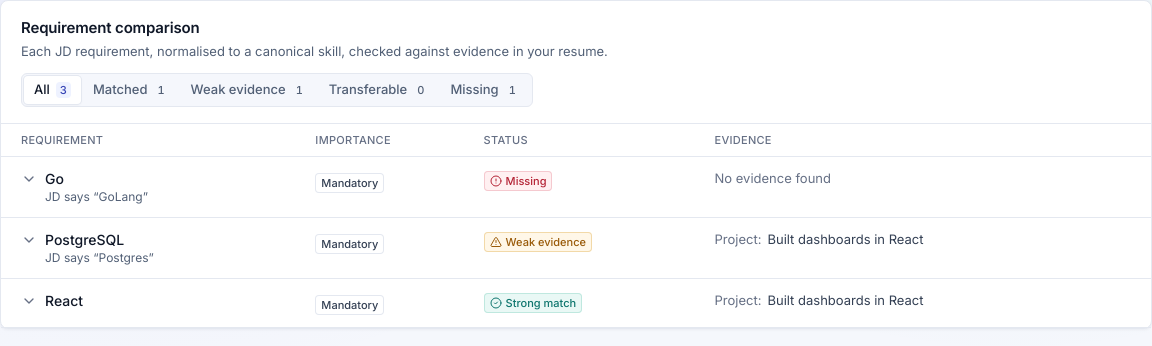
Test: RequirementsPanel › filters by match state
Click the tab "Missing 1" at (485, 90), box [440,76,530,104]
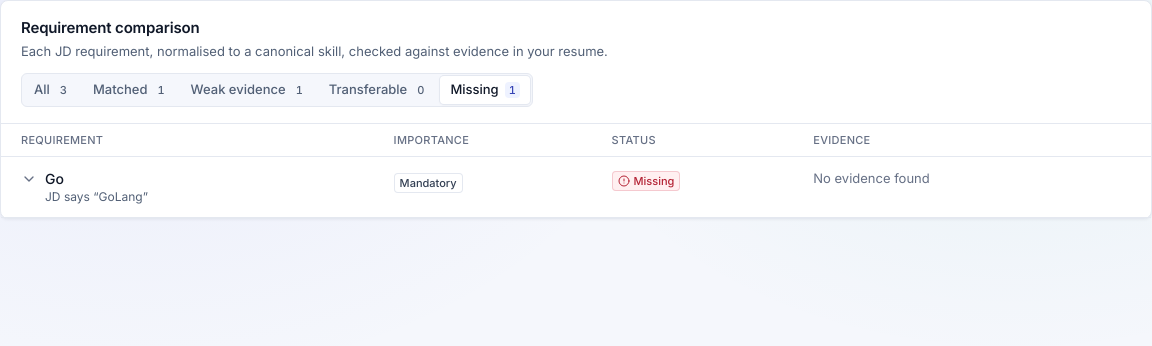
Expected: the text "Go" is shown, [45,170,64,186]
Expected: the button "PostgreSQL" is gone
